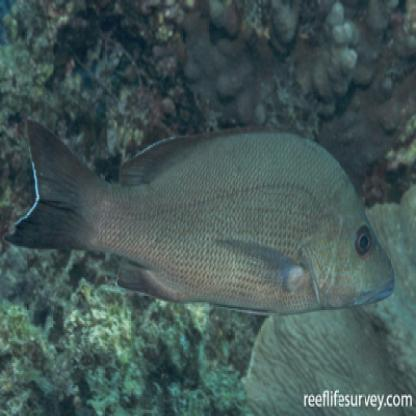Lutjanidae -Snappers-: (7, 102, 401, 316)
